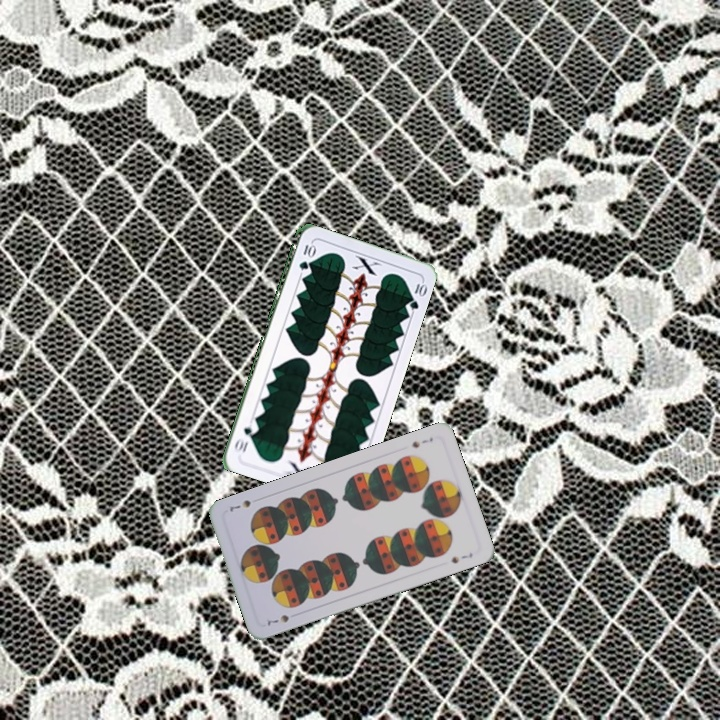G10: (295, 239, 316, 273)
S7: (263, 611, 292, 628), (407, 433, 436, 450)
